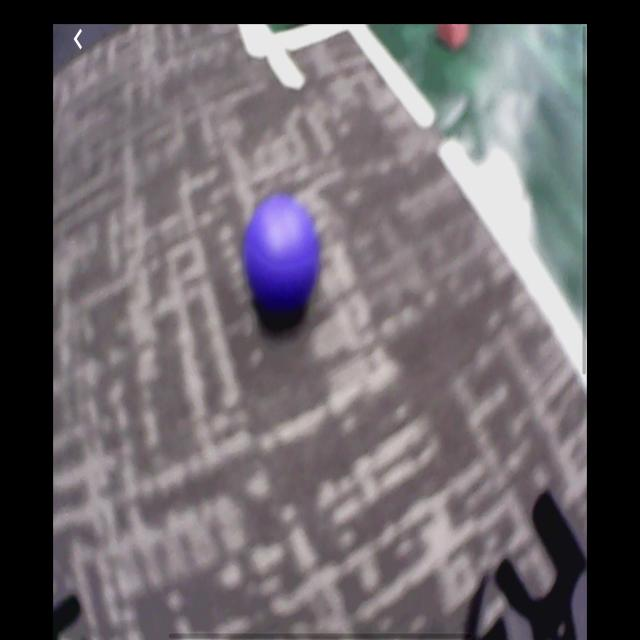ball: (245, 192, 321, 312)
